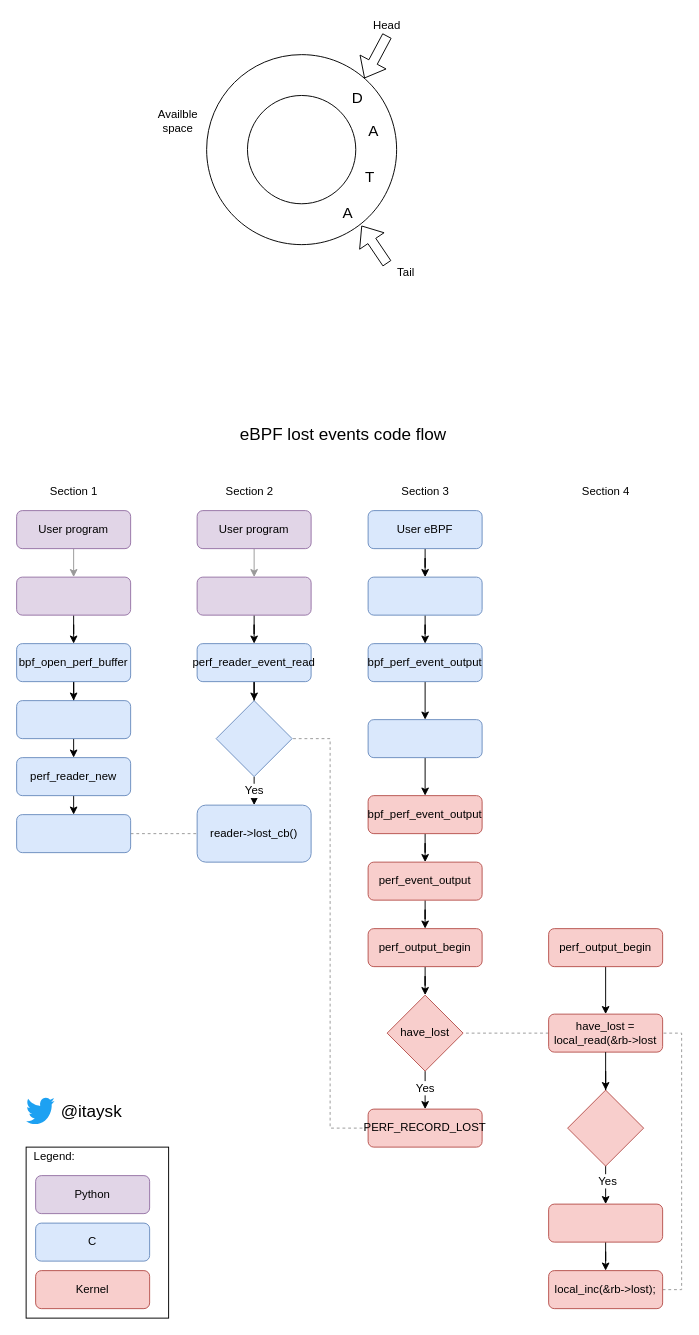
Some shapes in this 699 by 1335 pixel diagram are drawn without their labels. Here are the shapes that lost their labels. From the top down, the centre of each, then its label:
At pixel 73 595: "BPF.open_perf_buffer".
At pixel 253 595: "BPF.perf_buffer_poll".
At pixel 424 595: "table.perf_submit".
At pixel 73 719: "(Appendix 1)".
At pixel 253 738: "type == PERF_RECORD_LOST".
At pixel 424 738: "(Appendix 2)".
At pixel 73 833: "reader->lost_cb = lost_cb;".
At pixel 605 1127: "CIRC_SPACE(...) < size".
At pixel 605 1222: "fail".
